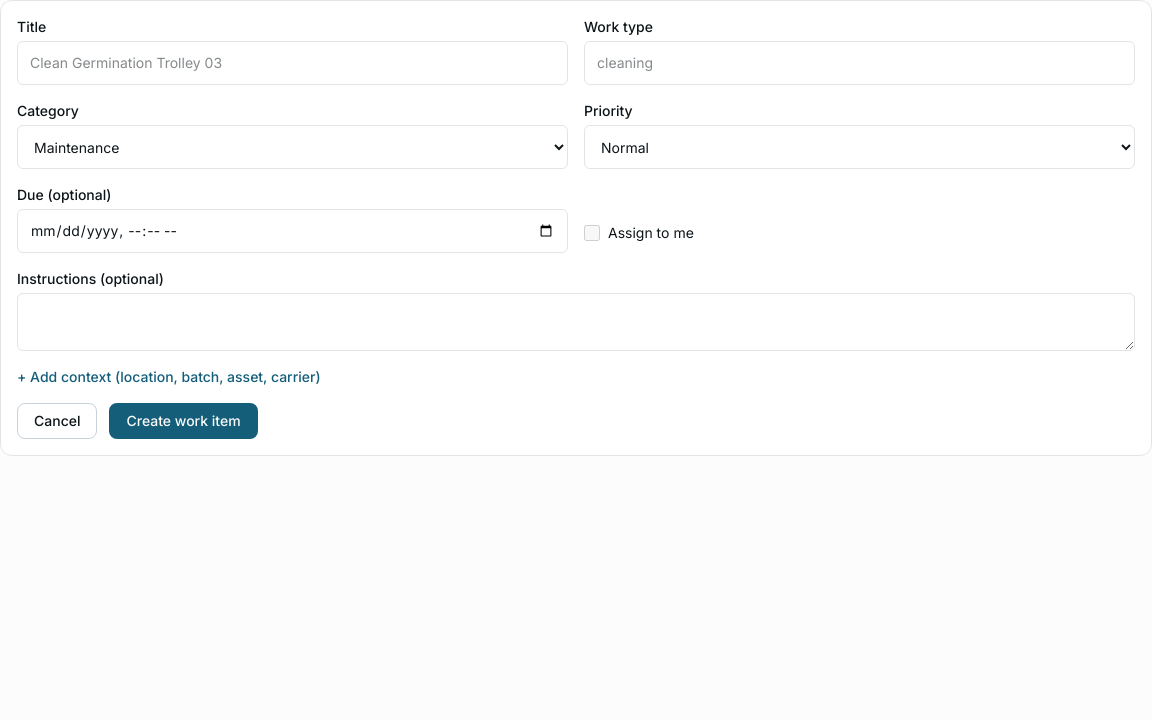
CreateWorkItemForm: validation and payload shape › context selects are hidden by default and appear behind 'Add context'
This screenshot has width=1152, height=720.
Click the button "+ Add context (location, batch, asset, carrier)": {"x": 169, "y": 377} [17,367,321,387]
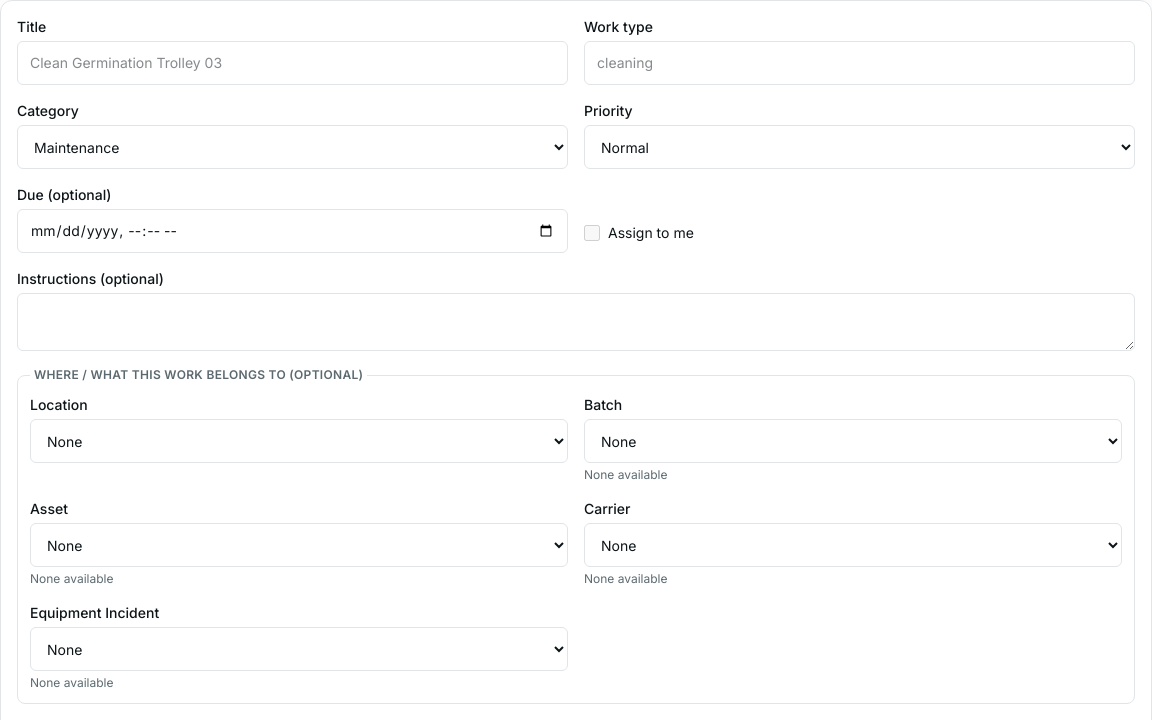
Expected: the dropdown labelled "Location" is shown, [30,419,568,463]
